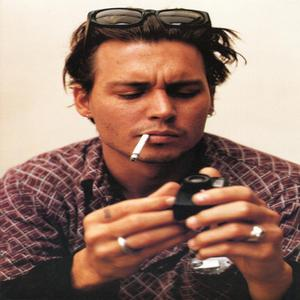cigarette: (129, 133, 149, 163)
